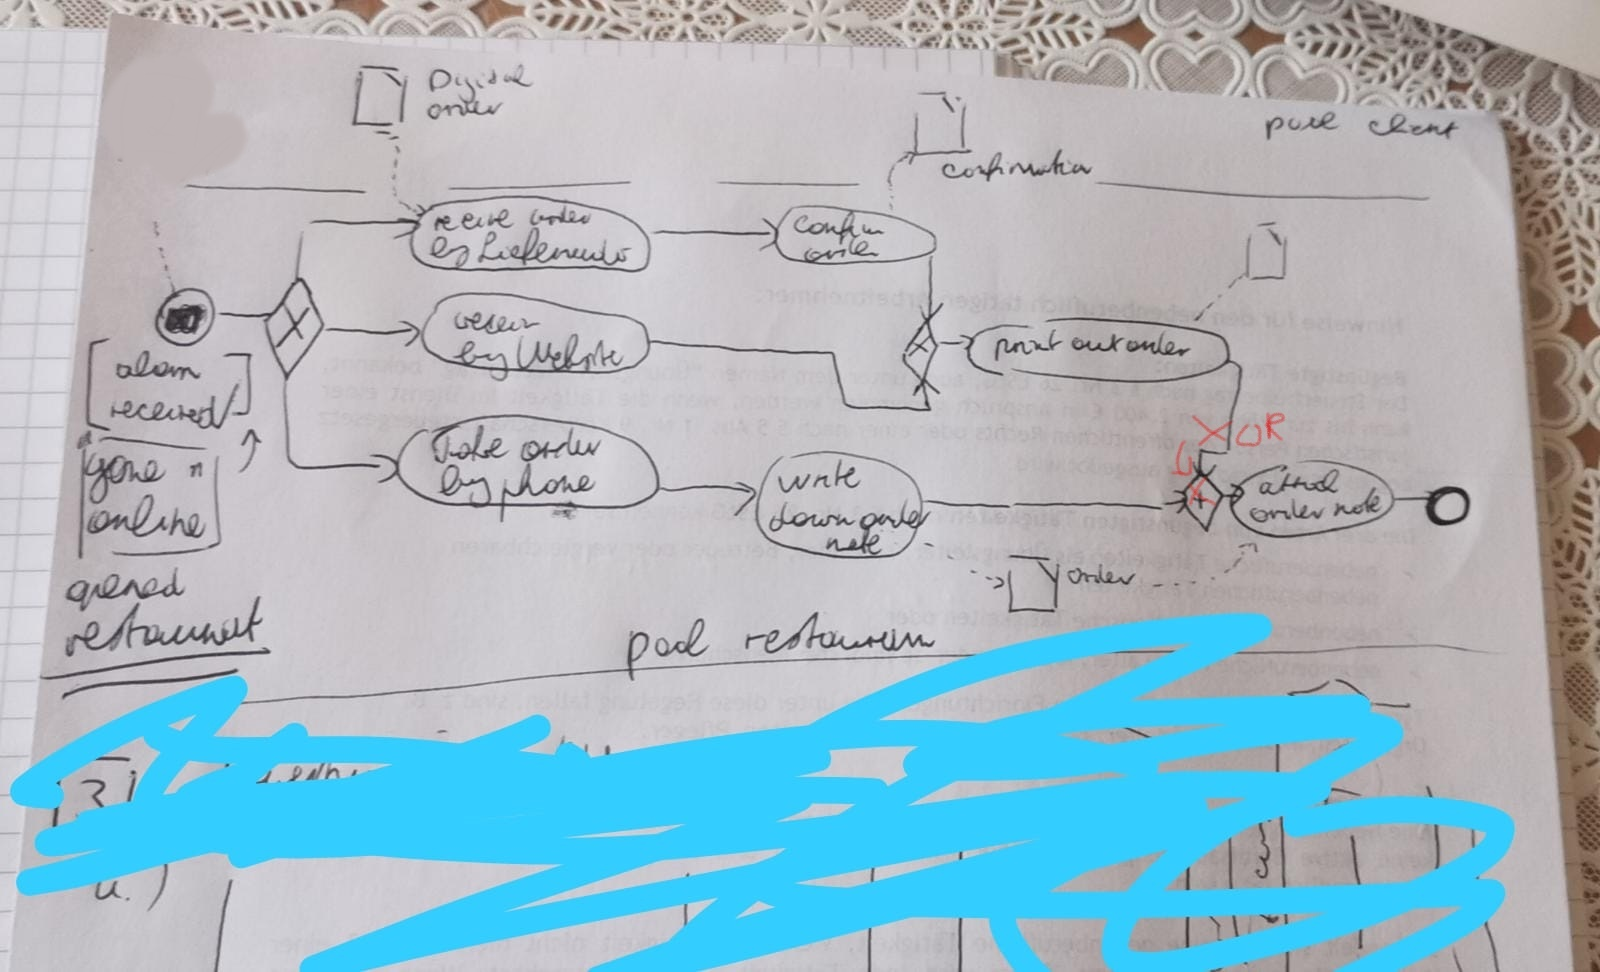Confirm: (787, 212, 887, 241)
Digital: (424, 61, 536, 101)
Lieferando: (474, 228, 639, 271)
Take: (426, 419, 512, 465)
Website: (512, 330, 629, 375)
attach: (1256, 468, 1344, 501)
by: (433, 462, 496, 508), (454, 337, 513, 385), (424, 231, 475, 270)
client: (1362, 111, 1463, 144)
confimation: (938, 149, 1099, 185)
down: (765, 500, 859, 534)
gone: (82, 451, 173, 505)
n: (184, 452, 210, 486)
note: (1330, 486, 1386, 521), (822, 528, 888, 556)
olern: (111, 349, 206, 387)
online: (82, 491, 213, 544)
opened: (57, 563, 195, 613)
order: (514, 425, 606, 464), (854, 496, 936, 533), (1246, 495, 1329, 526), (1059, 559, 1144, 589), (798, 236, 885, 264), (1122, 330, 1195, 364), (422, 97, 507, 124), (523, 202, 599, 230)
out: (1067, 330, 1129, 358)
phone: (496, 464, 602, 521)
pod: (619, 616, 719, 684)
proof: (987, 328, 1067, 366)
pure: (1259, 110, 1349, 142)
receive: (449, 301, 551, 340), (427, 206, 519, 233)
received: (105, 392, 223, 428)
restourum: (734, 610, 941, 667)
retourned: (59, 598, 267, 661)
write: (774, 457, 866, 496)
